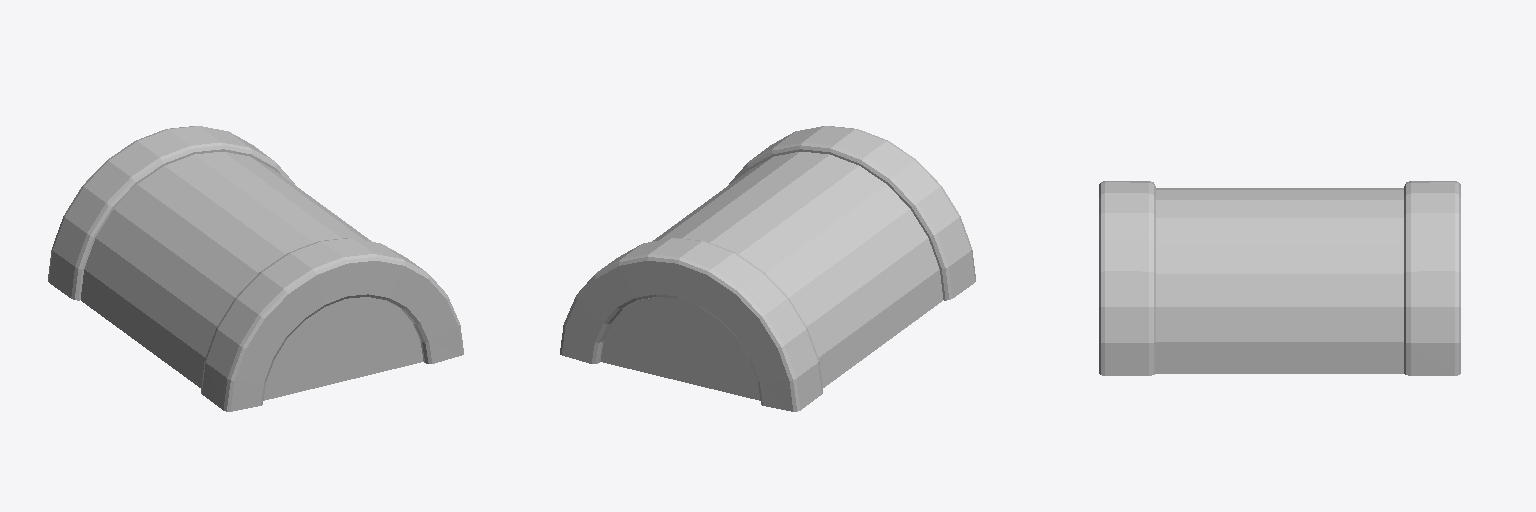
Rendered from chest_upper.obj.
3 renders of one model, left to right at view 1: azimuth 30°, elevation 25°; view 2: azimuth 150°, elevation 25°; view 3: azimuth 270°, elevation 25°, orthographic.
Parts seen in each view (by area): view 1: chest_top_Cylinder.002; view 2: chest_top_Cylinder.002; view 3: chest_top_Cylinder.002.
Boxes of the visible parts, x1=… form: chest_top_Cylinder.002: x1=48, y1=126, x2=463, y2=411; chest_top_Cylinder.002: x1=560, y1=126, x2=975, y2=411; chest_top_Cylinder.002: x1=1099, y1=181, x2=1460, y2=375.
Size of the model in its own units: 6.75 by 3.38 by 8.84.